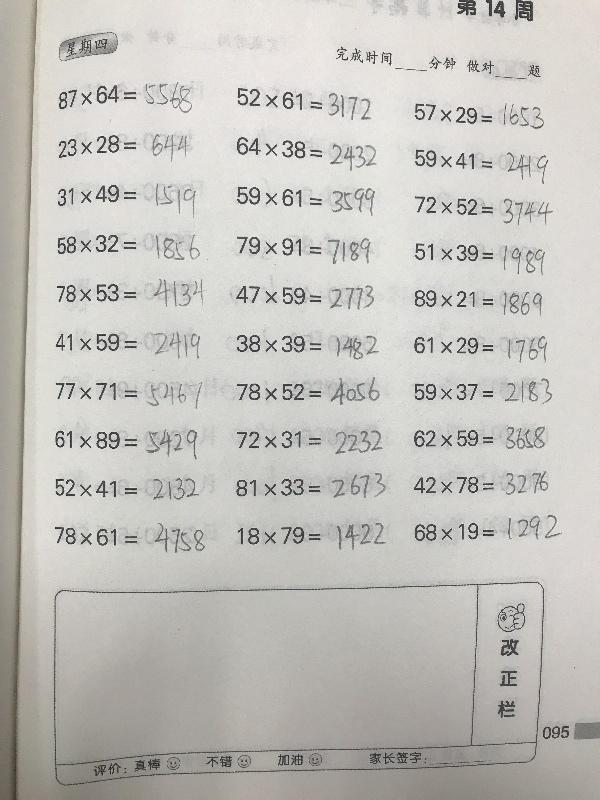equation: (411, 146, 552, 187), (54, 273, 207, 310), (55, 78, 197, 117), (53, 228, 212, 262), (53, 520, 207, 555), (233, 469, 387, 504), (234, 516, 388, 551), (233, 424, 386, 459), (232, 374, 384, 409), (52, 328, 204, 363), (53, 376, 205, 411), (53, 424, 205, 459), (233, 183, 378, 219), (232, 136, 380, 171), (410, 514, 565, 547), (233, 330, 383, 364), (233, 233, 374, 269), (410, 192, 556, 226), (411, 374, 556, 408), (226, 282, 378, 314), (410, 333, 552, 367), (53, 182, 199, 215), (52, 474, 210, 504), (410, 240, 548, 274), (233, 85, 376, 117), (410, 421, 549, 453), (410, 286, 546, 318), (54, 132, 193, 163), (410, 97, 549, 128), (409, 469, 552, 499)
